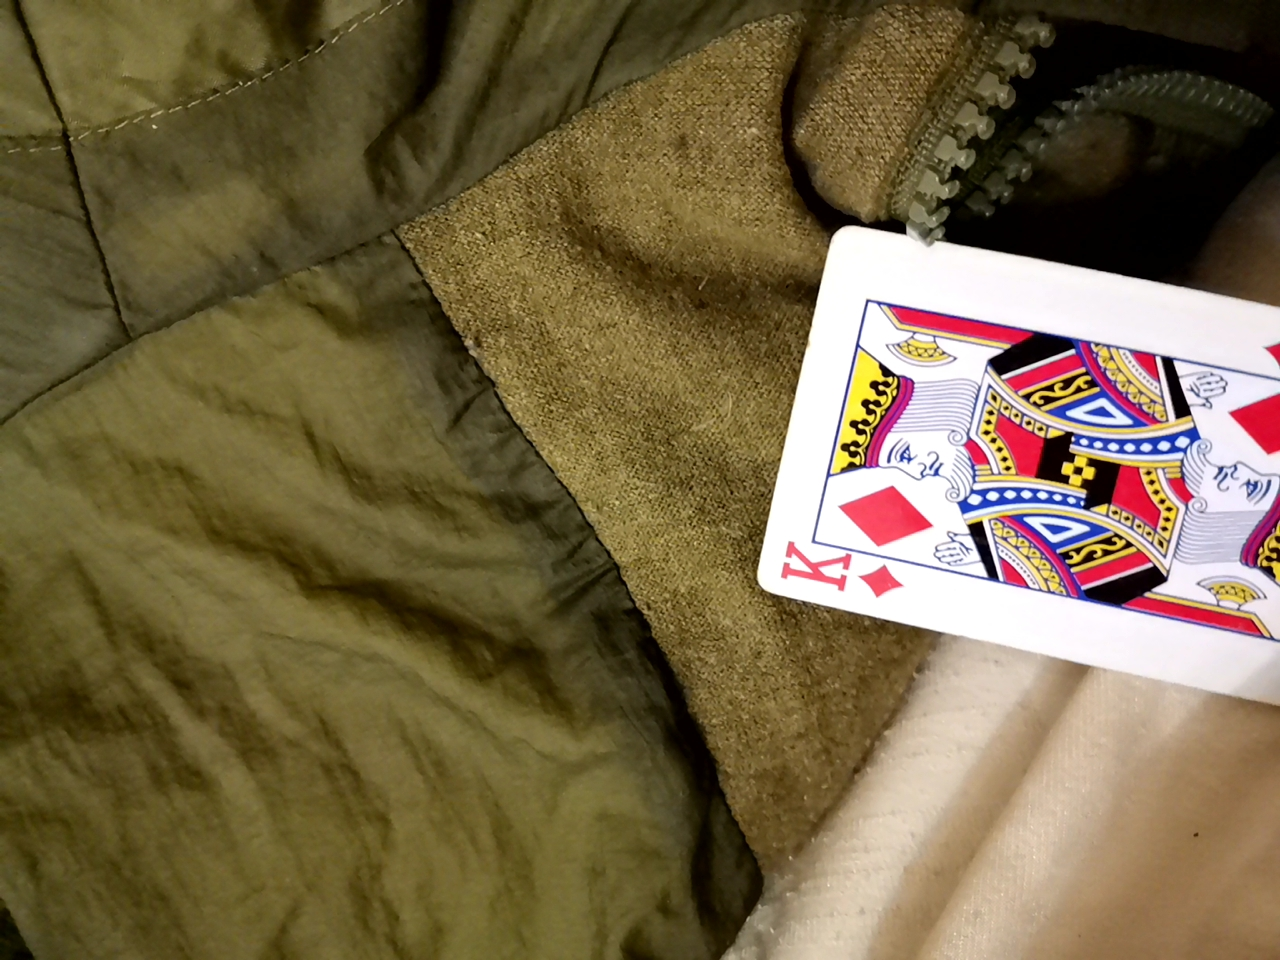fk k: (670, 253, 1254, 707)
